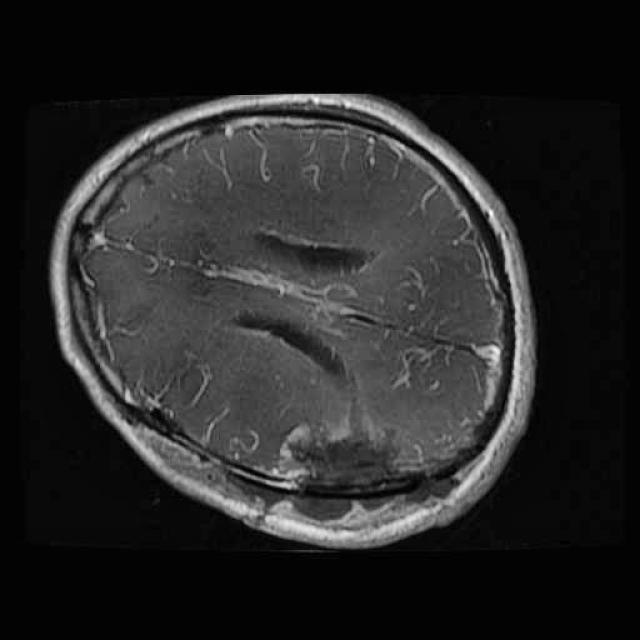Non-Tumor: (258, 404, 415, 534)
